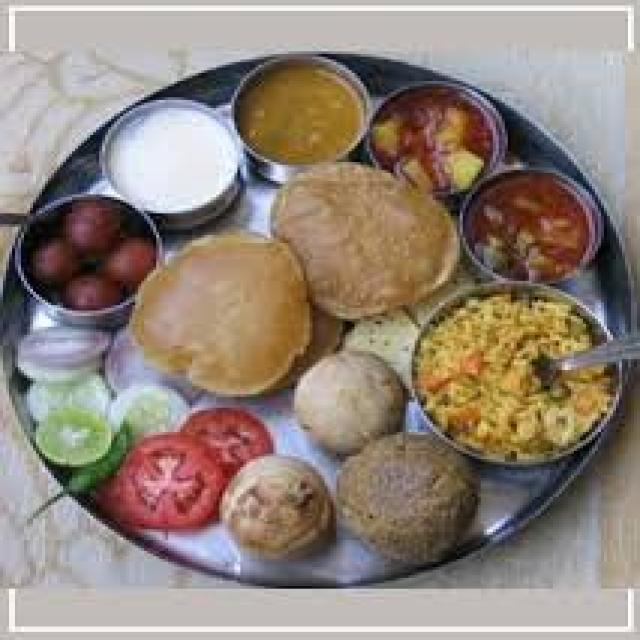puri: (134, 235, 307, 394), (270, 168, 454, 310)
